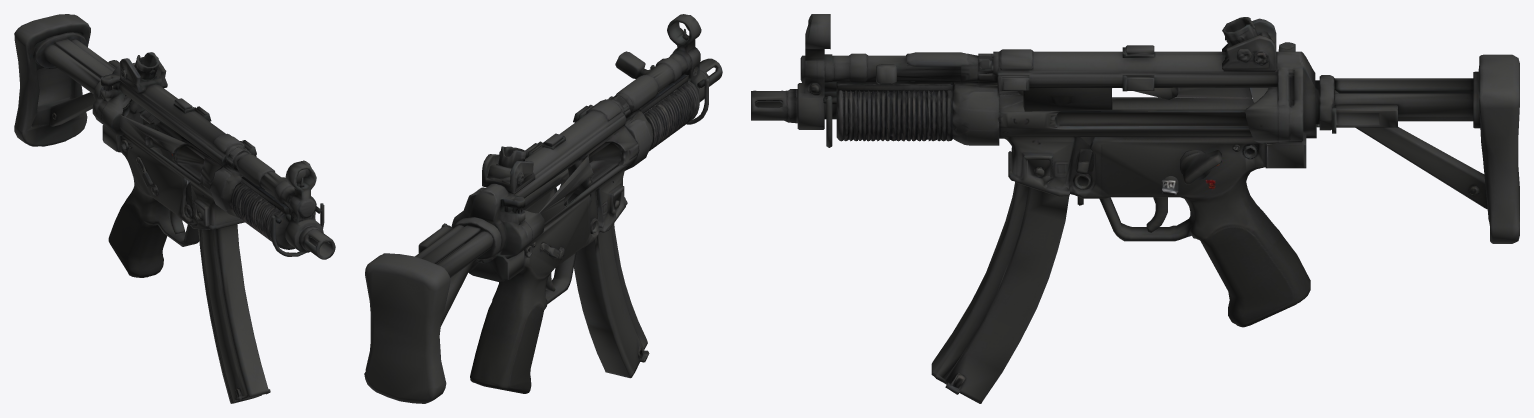
File: mp5_gun.glb
3 renders of one model, left to right at view 1: azimuth 30°, elevation 25°; view 2: azimuth 150°, elevation 25°; view 3: azimuth 270°, elevation 25°, orthographic. The views are drawn at different scales.
Visible parts, largest first — view 1: tripo_node_8f15582e-4aeb-40fa-b9a8-d2b4d66b0664; view 2: tripo_node_8f15582e-4aeb-40fa-b9a8-d2b4d66b0664; view 3: tripo_node_8f15582e-4aeb-40fa-b9a8-d2b4d66b0664.
Boxes of the visible parts, left/top/right/bottom form: tripo_node_8f15582e-4aeb-40fa-b9a8-d2b4d66b0664: left=14, top=14, right=335, bottom=403; tripo_node_8f15582e-4aeb-40fa-b9a8-d2b4d66b0664: left=364, top=14, right=722, bottom=403; tripo_node_8f15582e-4aeb-40fa-b9a8-d2b4d66b0664: left=751, top=14, right=1519, bottom=403.
Bounding box in the file's own units: 0.1912 × 0.75 × 1.37.
1 material, 1 textured.
